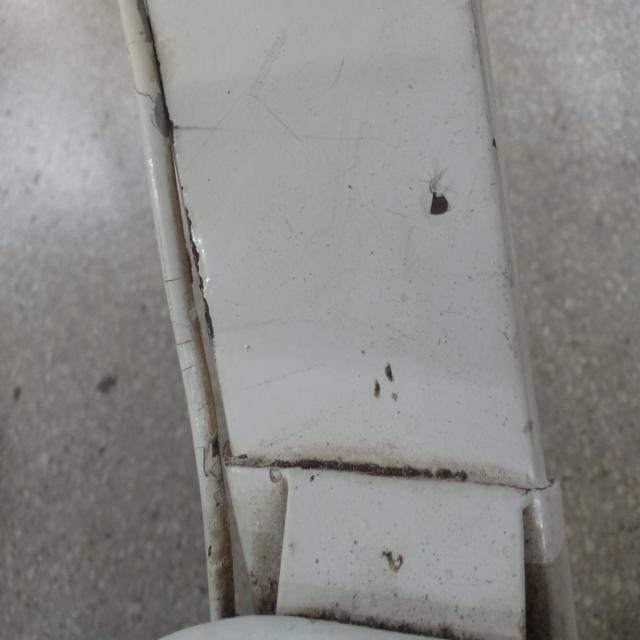Rupture: (163, 244, 255, 501), (410, 131, 463, 234), (134, 70, 196, 156)
